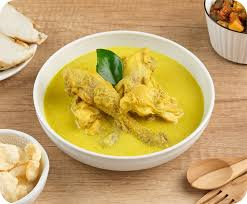Opor ayam: (39, 45, 205, 160)
